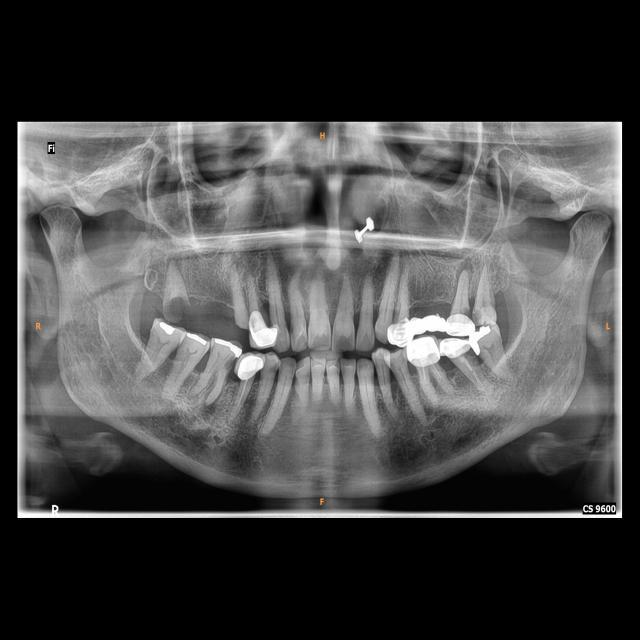dentin-curugu: (162, 292, 189, 320), (338, 330, 354, 350), (224, 353, 237, 370), (473, 310, 484, 326)
dolgu: (211, 333, 242, 360), (466, 326, 495, 354), (186, 328, 207, 349), (154, 320, 176, 338)
kanal-tedavisi: (458, 356, 484, 390), (418, 368, 447, 390), (236, 379, 249, 409)
kaplama: (408, 334, 440, 366), (248, 310, 272, 345), (445, 311, 475, 336), (438, 336, 472, 358), (385, 316, 411, 343), (238, 354, 265, 379)
kopru: (408, 309, 450, 337)
